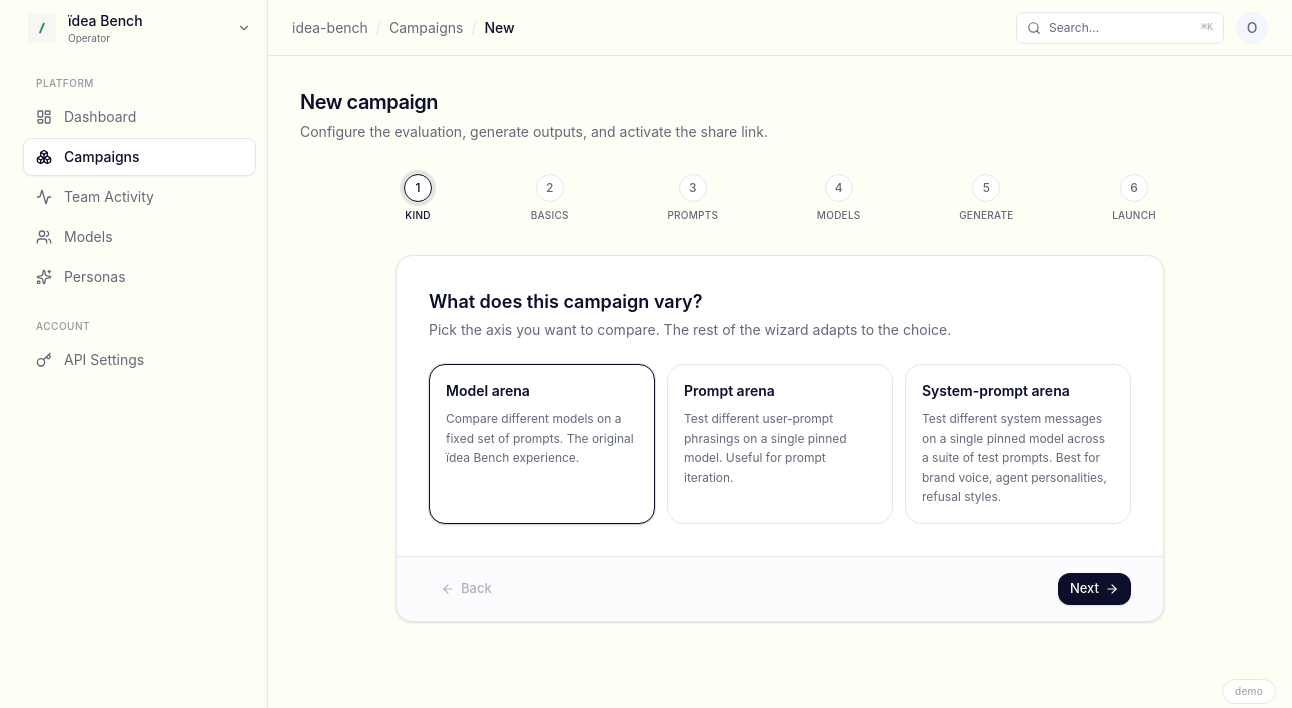
Test: CreateCampaign › only shows enabled non-legacy models in the campaign model selector
Click the button "Next": (1094, 588) [1058, 572, 1131, 604]
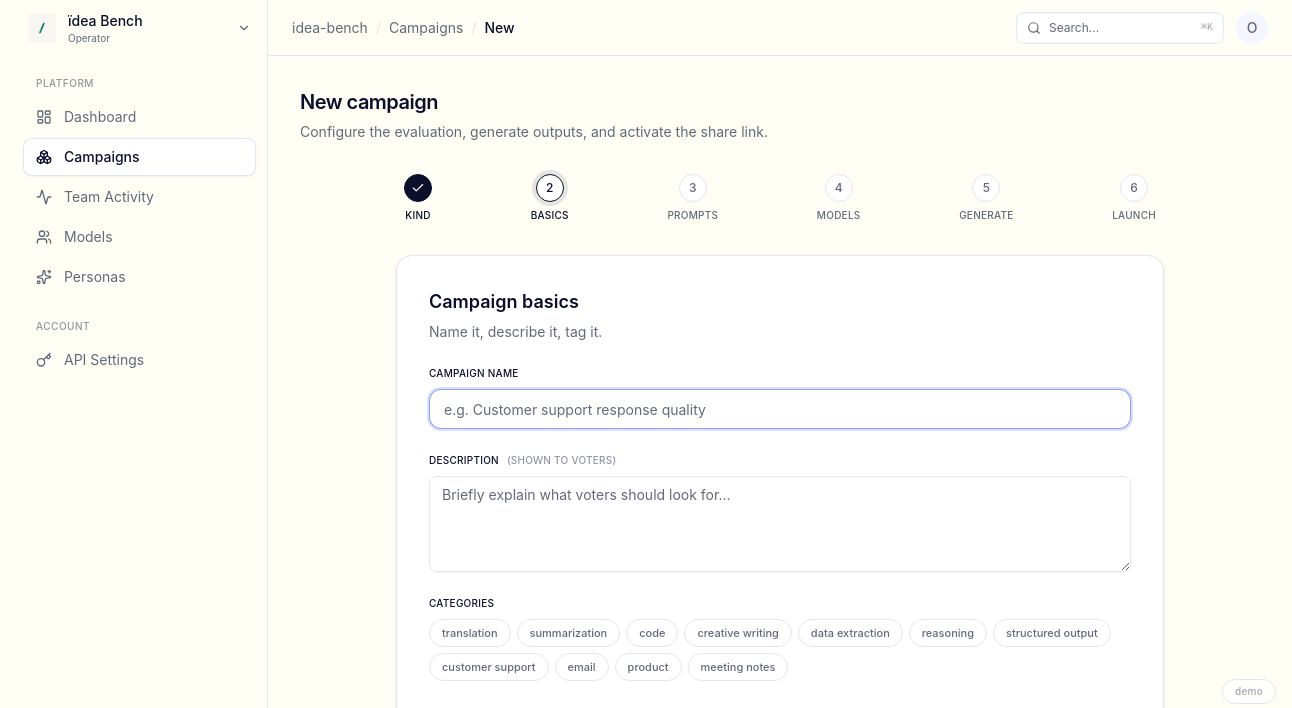
In the field labelled "Campaign name": (780, 409) [429, 389, 1131, 429], type "Test campaign"
(page scrolled)
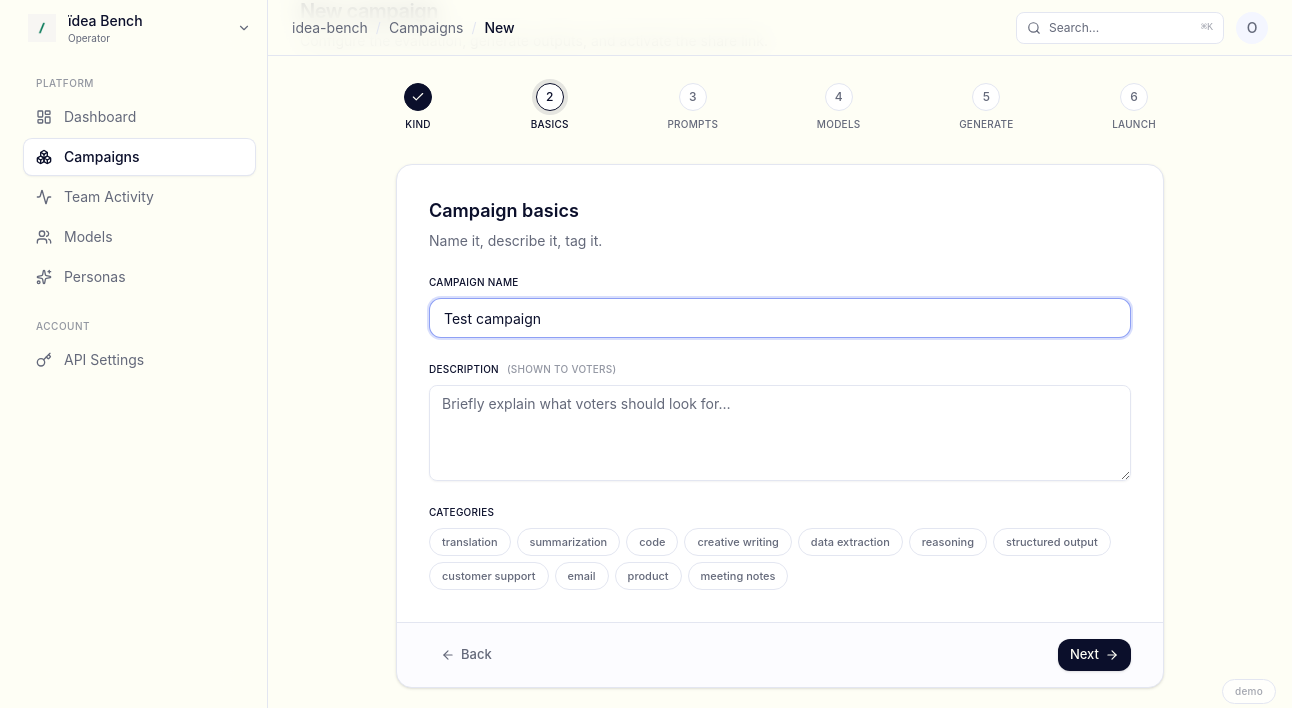
Click the button "Next": (1094, 655) [1058, 639, 1131, 671]
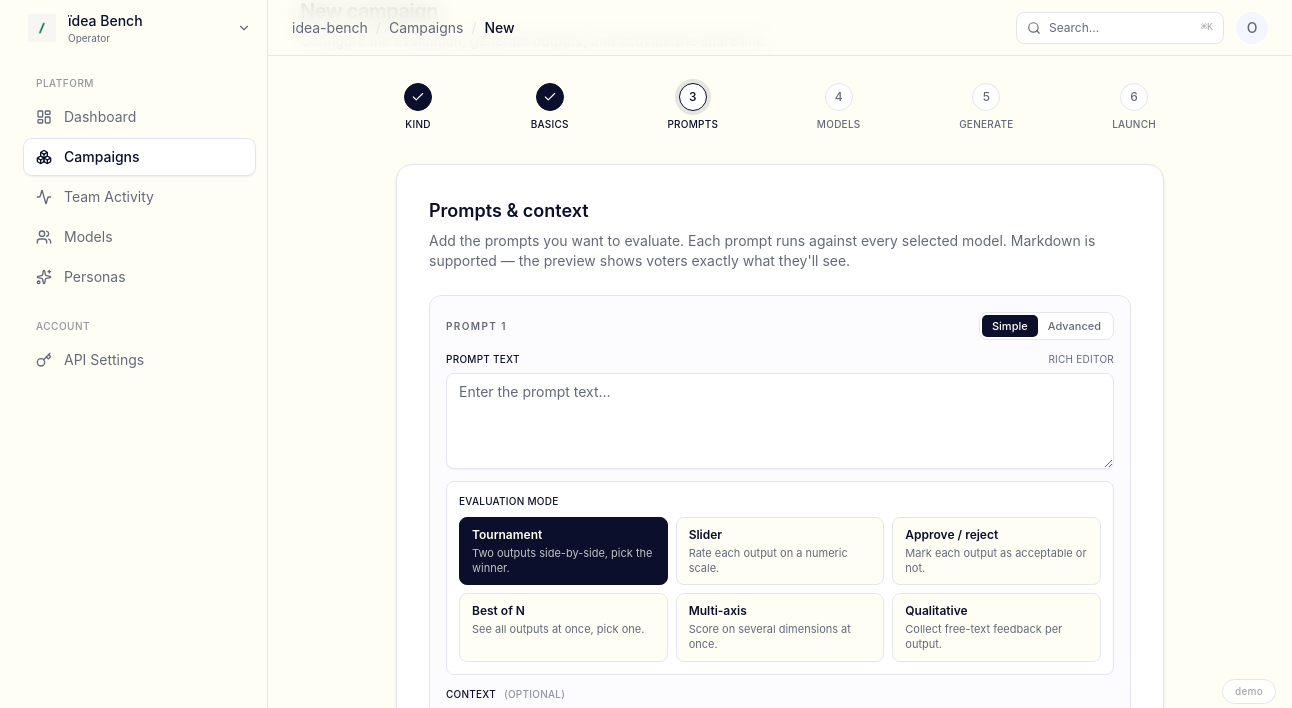
In the text box labelled "Prompt text": (780, 421) [446, 373, 1114, 469], type "Compare these responses"
(page scrolled)
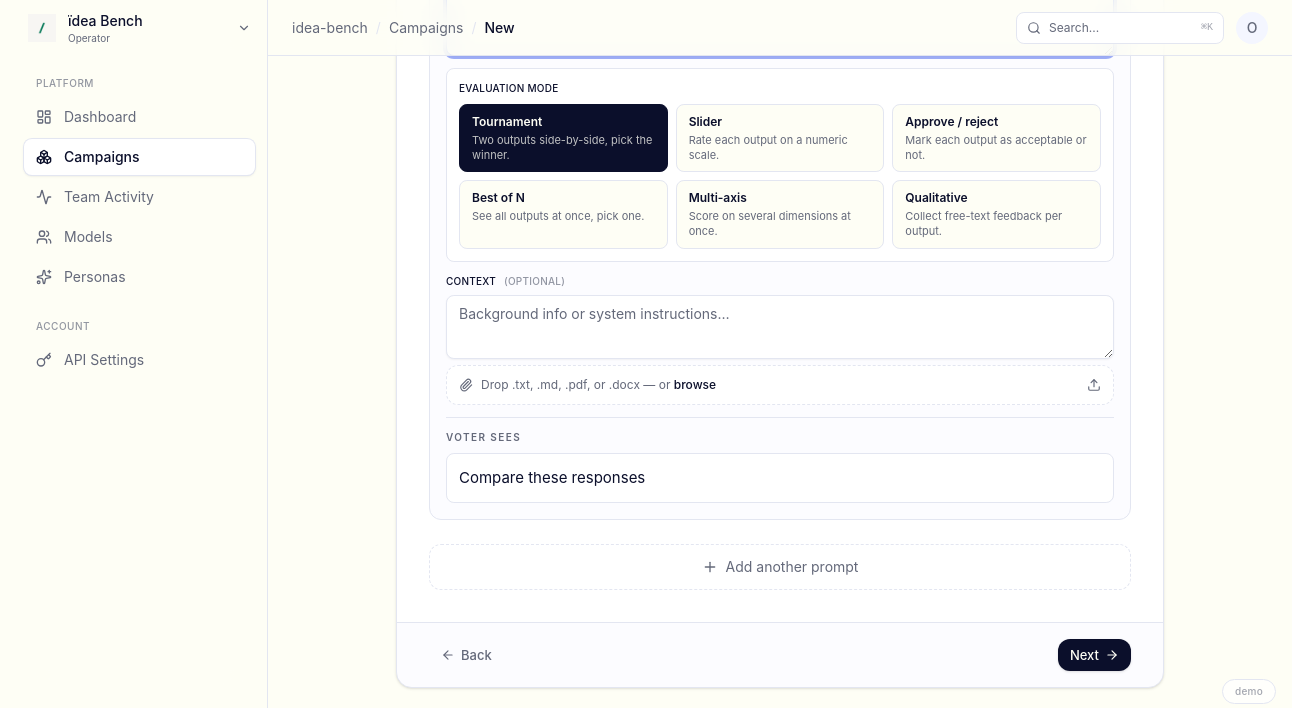
Click the button "Next": (1094, 655) [1058, 639, 1131, 671]
(page scrolled)
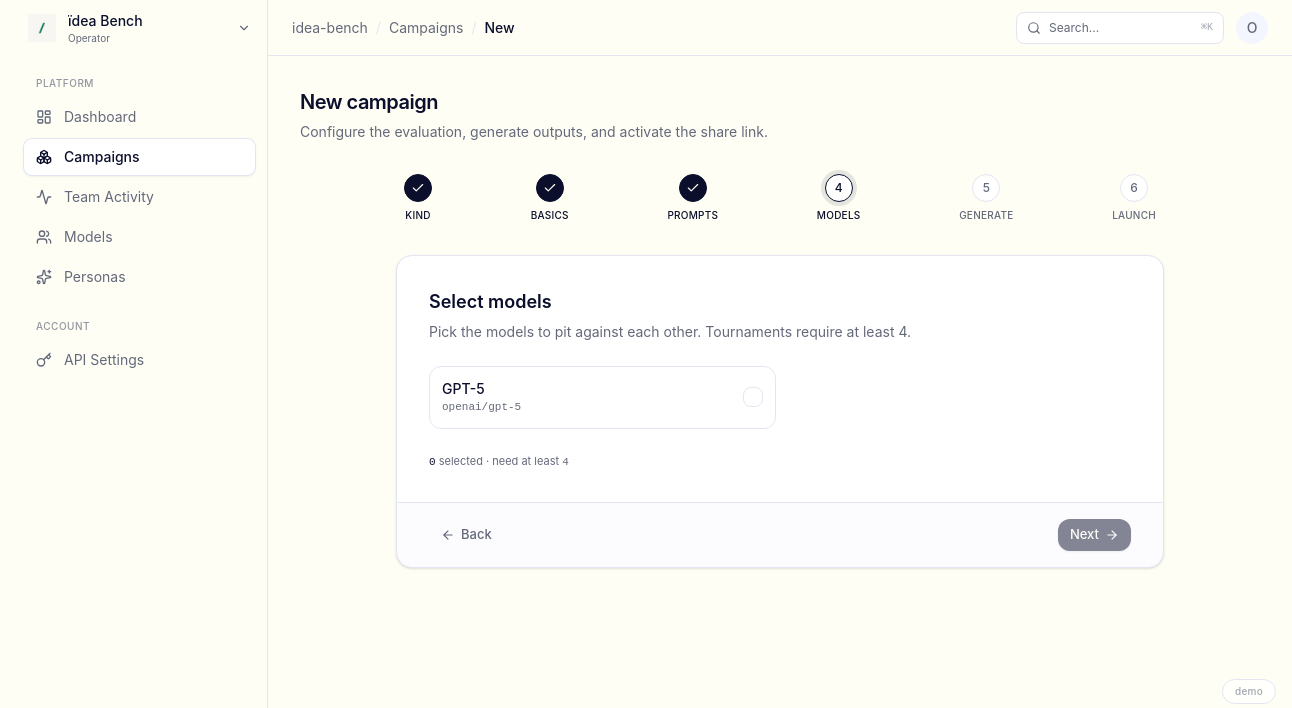
Check: the text "GPT-5" is shown, box [442, 380, 485, 397]
